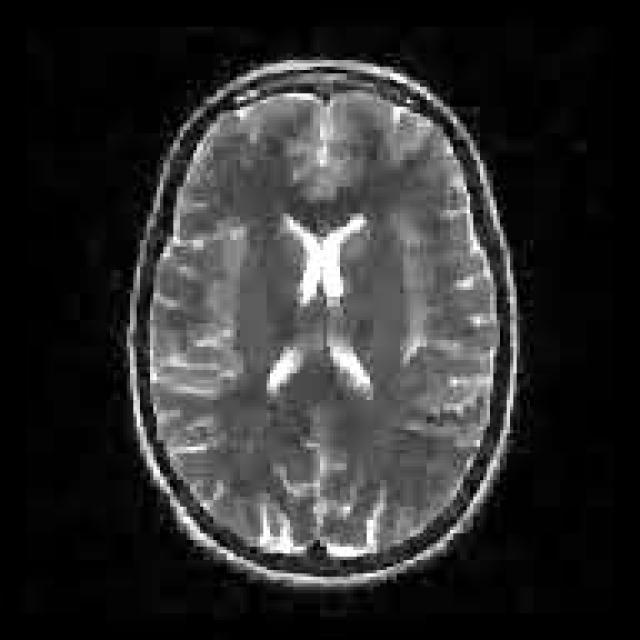notumor: (130, 60, 517, 580)
